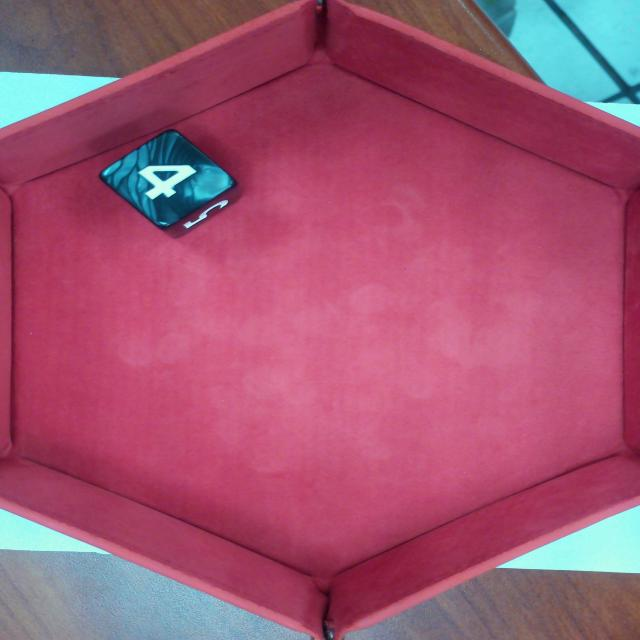dice: (99, 129, 238, 230)
